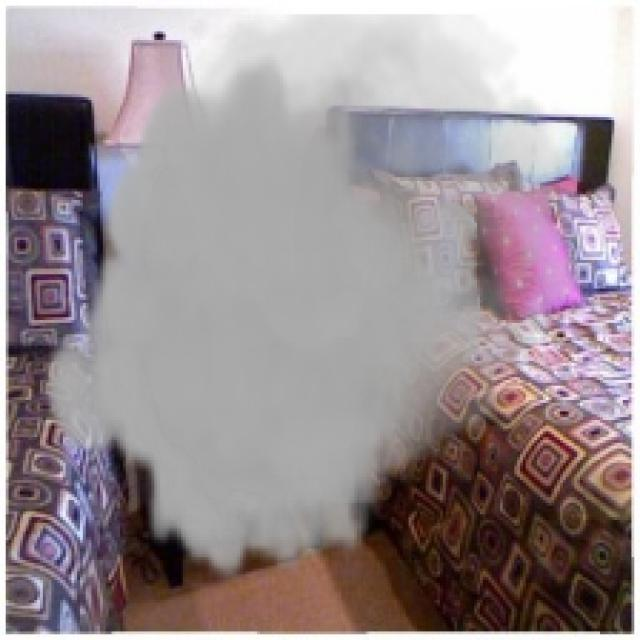smoke: (40, 14, 603, 583)
